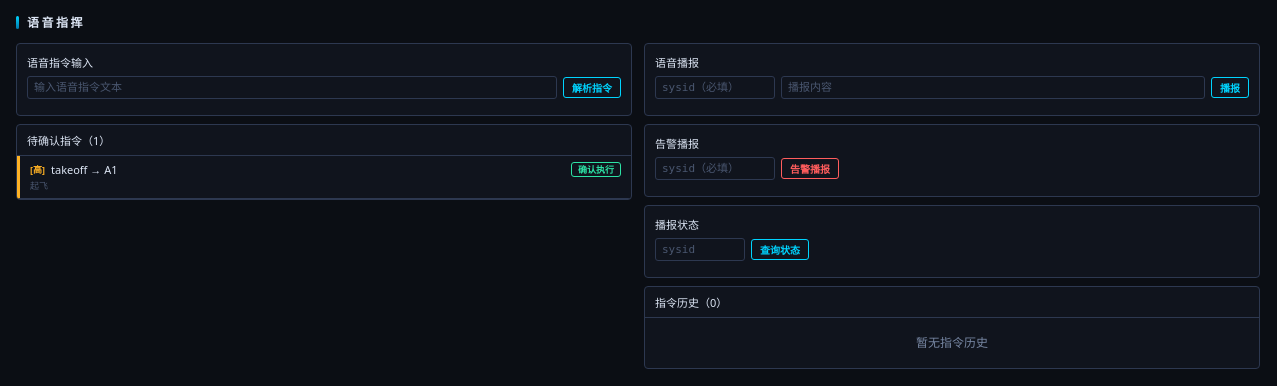
Scenario: VoiceCmdPanel 确认执行失败：显示且不被轮询抹掉 › 点「确认执行」失败：显示「确认失败：原因」
The width and height of the screenshot is (1277, 386).
Click the button "确认执行".
click(596, 170)  # box [571,162,621,177]
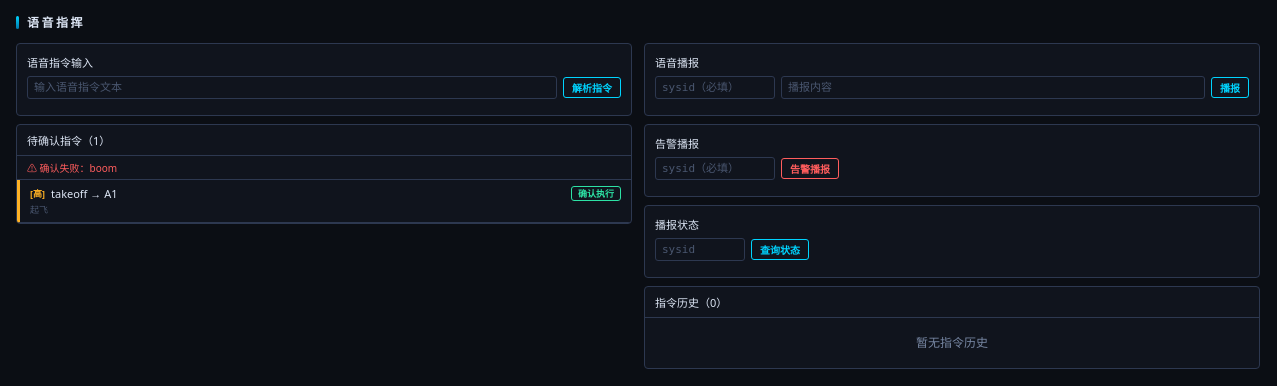
Check: the text "确认失败：boom" is shown, box [40,161,117,175]
